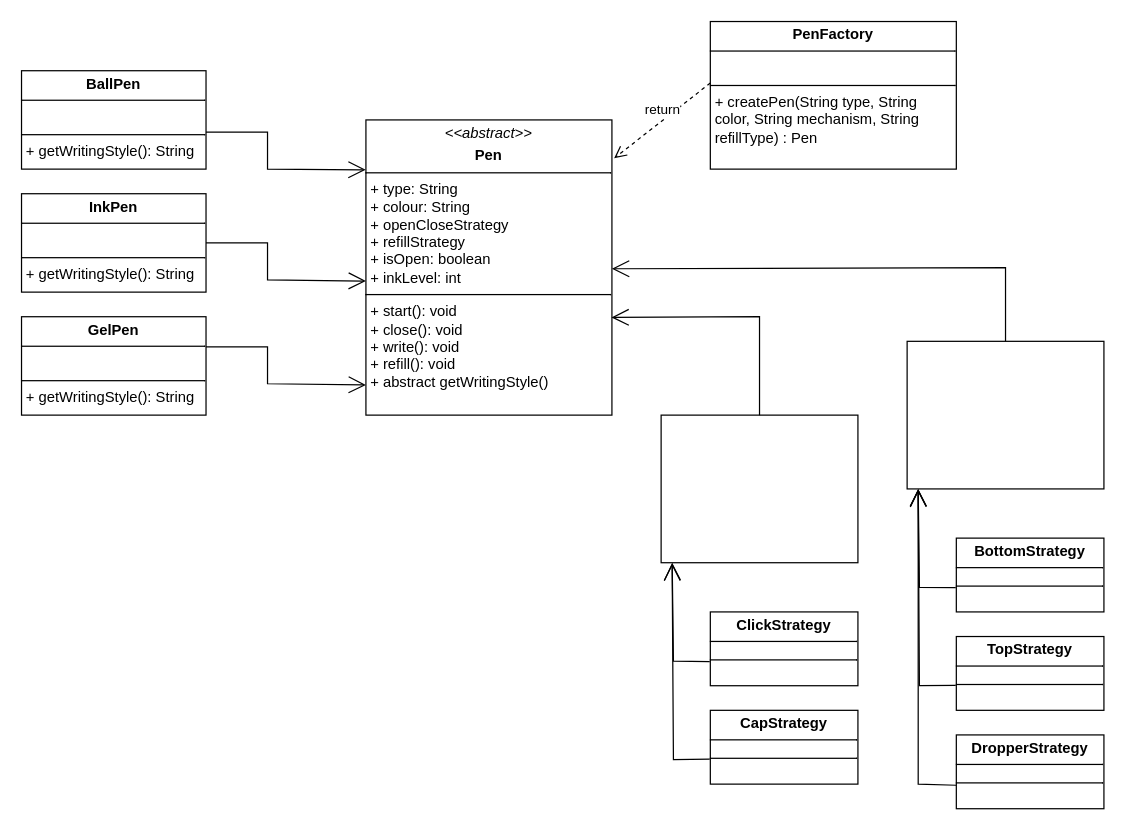
The diagram is 1125 pixels wide and 830 high, and some of its shapes have lost their labels. Here are the shapes that lost their labels. From the top down, the centre of each, then its label:
point 1005,414: <<Interface>> RefillStrategy + refill()
point 759,488: <<Interface>> OpenCloseStrategy + open() + close()
